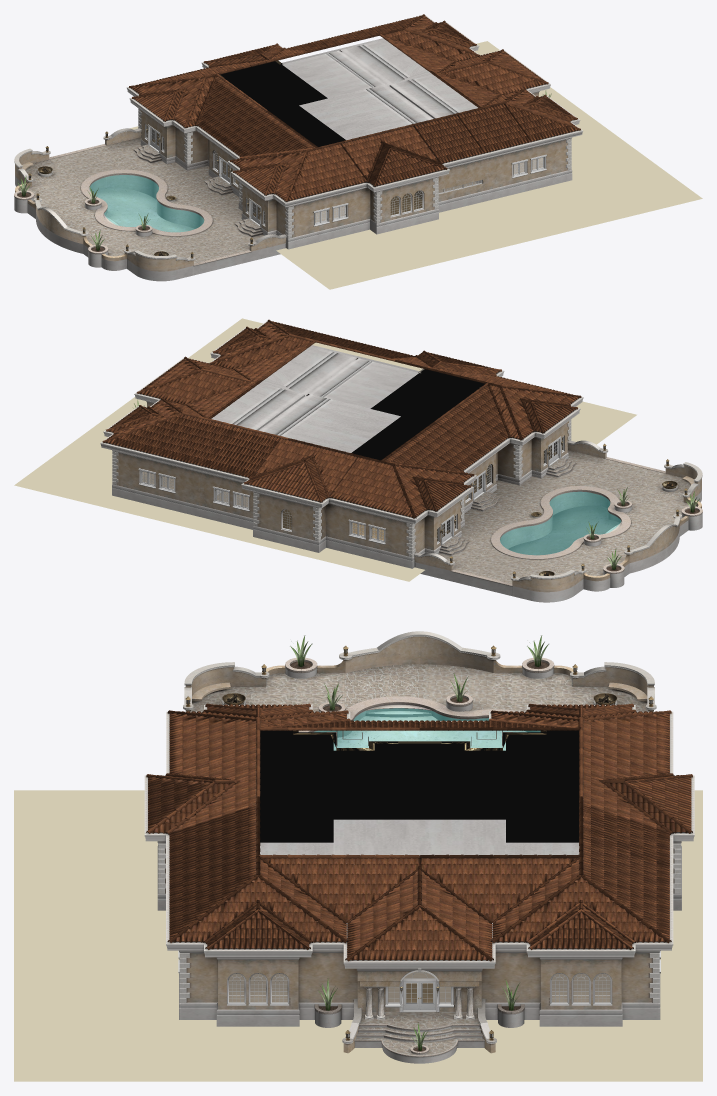
3 views of the same model, one above another, from view 1: azimuth 30°, elevation 25°; view 2: azimuth 150°, elevation 25°; view 3: azimuth 270°, elevation 25° (orthographic). The views are drawn at different scales.
Parts seen in each view (by area): view 1: prim0-mesh (×29), Patio 2 (Physics High) (×7), Terrain 1,0, prim0-mesh#2 (×3), prim0-mesh#3 (×3), prim0-mesh#1 (×4), prim0-mesh#4 (×2), prim0-mesh#10, prim0-mesh#5, prim0-mesh#9, prim0-mesh#8; view 2: prim0-mesh (×29), Patio 2 (Physics High) (×9), Terrain 1,0, prim0-mesh#1 (×4), prim0-mesh#3 (×3), prim0-mesh#2 (×3), prim0-mesh#4 (×2), prim0-mesh#5 (×2), Front floors and walls II (Physics Medium), prim0-mesh#9, prim0-mesh#8, prim0-mesh#7 (+1 smaller); view 3: prim0-mesh (×24), Terrain 1,0, Patio 2 (Physics High) (×8), prim0-mesh#3 (×3), prim0-mesh#4 (×3), prim0-mesh#1 (×3), prim0-mesh#2 (×3), prim0-mesh#5 (×2), Front floors and walls II (Physics Medium), prim0-mesh#8, prim0-mesh#9, prim0-mesh#10 (+2 smaller).
Part boxes in pixels (x1,y1,x2,y2): prim0-mesh (×29): (90, 39, 583, 249); Patio 2 (Physics High) (×7): (14, 45, 286, 281); Terrain 1,0: (129, 41, 702, 289); prim0-mesh#2 (×3): (198, 30, 477, 201); prim0-mesh#3 (×3): (220, 36, 484, 163); prim0-mesh#1 (×4): (136, 67, 530, 156); prim0-mesh#4 (×2): (341, 72, 499, 179); prim0-mesh#10: (443, 62, 546, 94); prim0-mesh#5: (368, 145, 445, 186); prim0-mesh#9: (507, 89, 577, 127); prim0-mesh#8: (406, 15, 476, 53); prim0-mesh (×29): (100, 346, 620, 568); Patio 2 (Physics High) (×9): (246, 440, 702, 602); Terrain 1,0: (14, 318, 636, 581); prim0-mesh#1 (×4): (139, 333, 508, 517); prim0-mesh#3 (×3): (188, 381, 508, 477); prim0-mesh#2 (×3): (156, 375, 575, 470); prim0-mesh#4 (×2): (236, 343, 357, 495); prim0-mesh#5 (×2): (212, 336, 499, 374); Front floors and walls II (Physics Medium): (112, 472, 200, 516); prim0-mesh#9: (212, 321, 287, 361); prim0-mesh#8: (106, 399, 180, 439); prim0-mesh#7: (215, 328, 264, 354); prim0-mesh (×24): (166, 708, 673, 1063); Terrain 1,0: (14, 790, 702, 1081); Patio 2 (Physics High) (×8): (183, 631, 691, 833); prim0-mesh#3 (×3): (169, 804, 669, 921); prim0-mesh#4 (×3): (172, 747, 665, 920); prim0-mesh#1 (×3): (169, 712, 669, 957); prim0-mesh#2 (×3): (169, 712, 669, 938); prim0-mesh#5 (×2): (148, 775, 346, 938); Front floors and walls II (Physics Medium): (485, 959, 660, 1026); prim0-mesh#8: (495, 877, 669, 942); prim0-mesh#9: (172, 877, 343, 942); prim0-mesh#10: (347, 871, 417, 957).
Size of what is drawn, in the model's own units: 90.59 by 13.72 by 64.
Materials: 297 (291 with a texture image).
